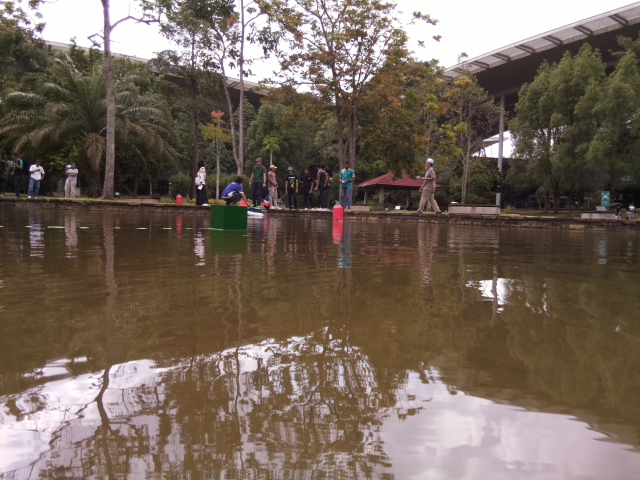obstacle: (209, 204, 249, 231)
